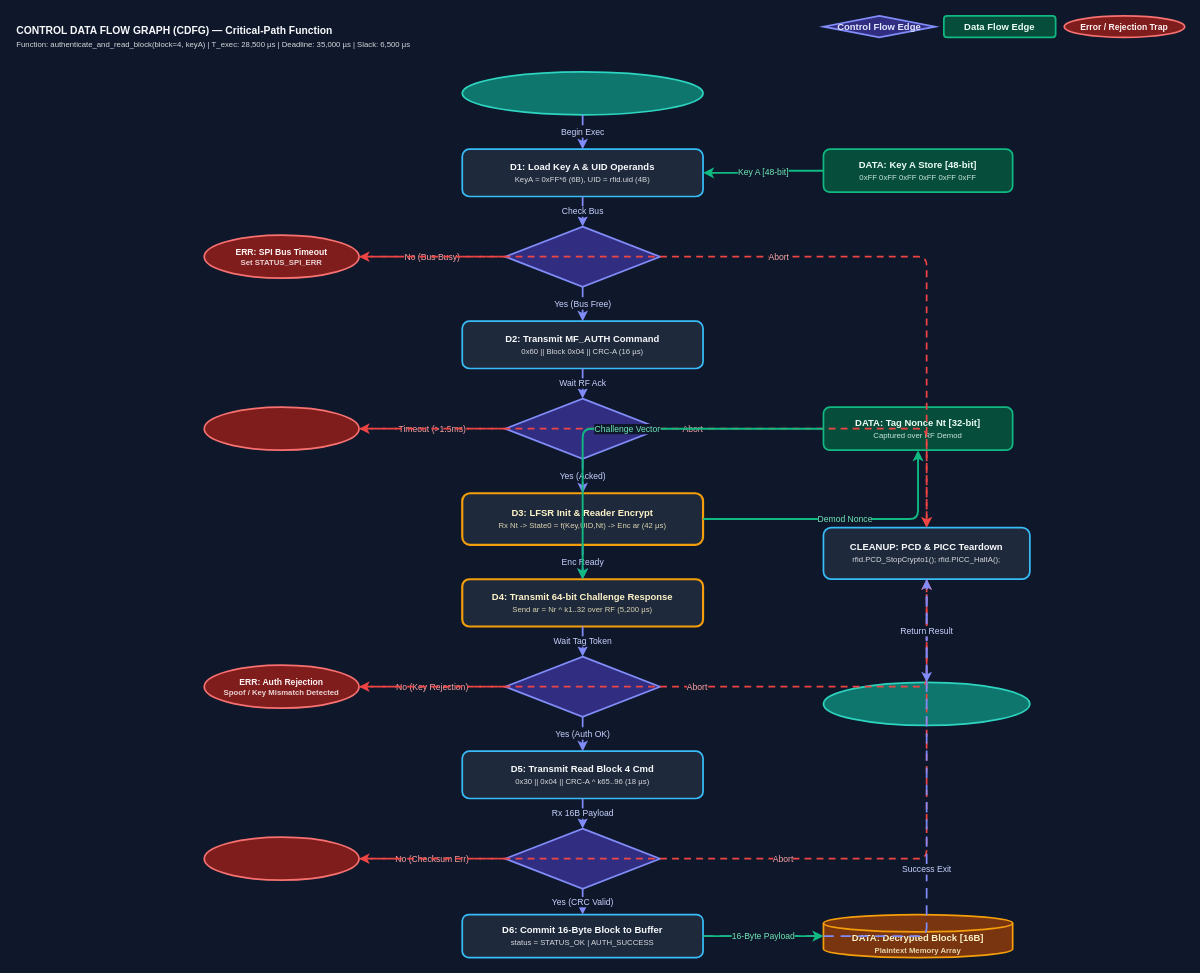
Image size: 1200x973. Some labels were removed from this diagram. Here are the shapes that lost their labels. From the top down, the centre of each, then its label:
At (582,93): "START: authenticate_and_read_block() Trigger: Valid PICC Serial Detected".
At (582,256): "C1: SPI Bus Ready? Check PCD_Ready".
At (281,428): "ERR: RF Timeout Set STATUS_TIMEOUT".
At (582,428): "C2: Tag Handshake Ack? RF Response in < 1.5 ms".
At (582,686): "C3: Mutual Auth OK? at == succ(Nt) verified".
At (926,703): "RETURN: authenticate_and_read_block() Exit with Status & Measured Delta_t".
At (281,858): "ERR: CRC Mismatch Payload Corrupted".
At (582,858): "C4: Payload CRC-16 Valid? Verify ISO 14443-3 CRC".
